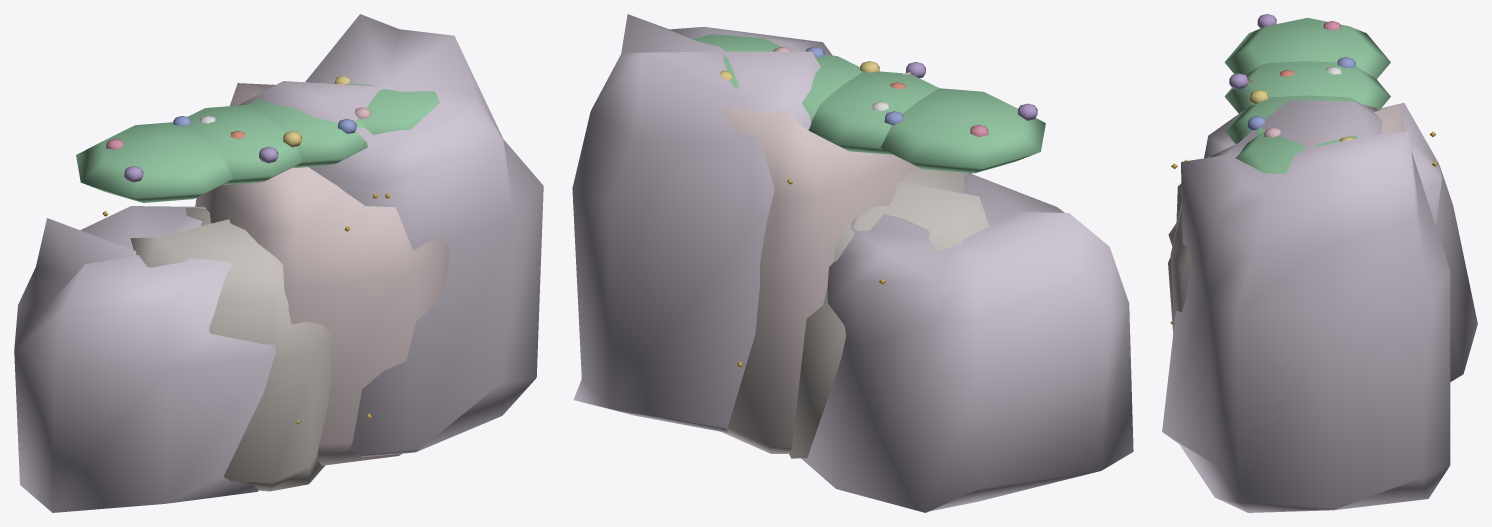
File: escarpment_rock_a.gltf
The picture shows the model from 3 angles, left to right: view 1: azimuth 30°, elevation 25°; view 2: azimuth 150°, elevation 25°; view 3: azimuth 270°, elevation 25°; orthographic projection. The views are drawn at different scales.
Parts seen in each view (by area): view 1: escarpment_rock_a; view 2: escarpment_rock_a; view 3: escarpment_rock_a.
Part boxes in pixels (x1,y1,x2,y2): escarpment_rock_a: (14, 14, 543, 512); escarpment_rock_a: (572, 14, 1133, 512); escarpment_rock_a: (1162, 14, 1477, 512).
Size of what is drawn, in the model's own units: 8.23 by 5.58 by 4.55.
